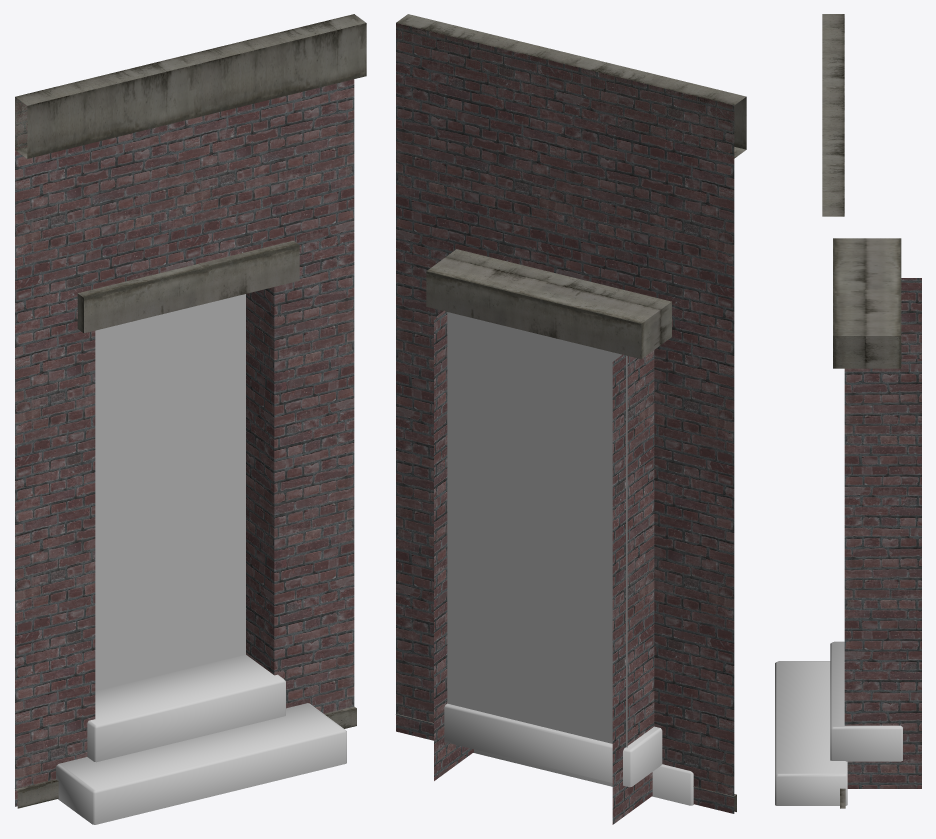
File: Wall_D_Brick_Door_C_2x.FBX
The picture shows the model from 3 angles, left to right: view 1: azimuth 30°, elevation 25°; view 2: azimuth 150°, elevation 25°; view 3: azimuth 270°, elevation 25°; orthographic projection. The views are drawn at different scales.
Visible parts, largest first — view 1: Wall_D_Brick_Door_C_2x; view 2: Wall_D_Brick_Door_C_2x; view 3: Wall_D_Brick_Door_C_2x.
Boxes of the visible parts, x1=… form: Wall_D_Brick_Door_C_2x: x1=15, y1=14, x2=366, y2=824; Wall_D_Brick_Door_C_2x: x1=395, y1=14, x2=746, y2=824; Wall_D_Brick_Door_C_2x: x1=775, y1=14, x2=921, y2=808.
Bounding box in the file's own units: 200 × 401 × 80.95.
